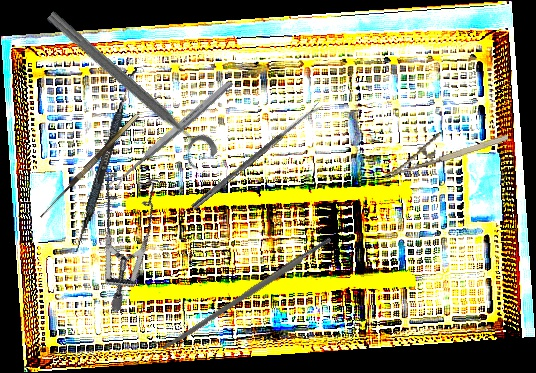Fixation Ring: (34, 5, 222, 175)
Hook Surgical: (37, 113, 146, 224)
Needle Holder: (376, 114, 510, 180)
Scalpel Handle: (160, 236, 334, 353)
Spatula Surgical: (73, 64, 138, 255)
Speculum: (40, 151, 200, 314)
Surgical Spoon: (107, 78, 235, 191), (191, 102, 323, 211)
